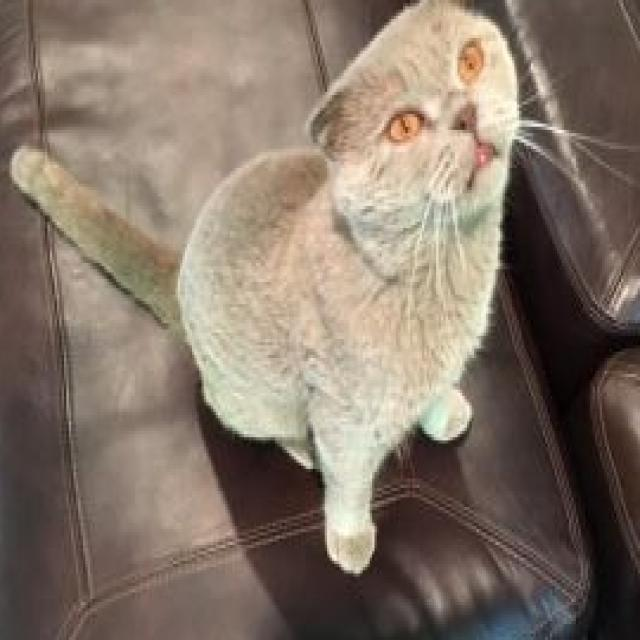Scottish Fold: (2, 0, 524, 580)
